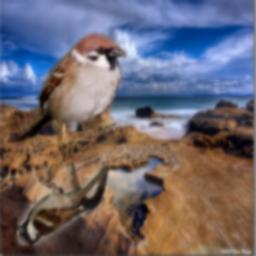Sparrow: (15, 31, 127, 149), (18, 164, 110, 247)
